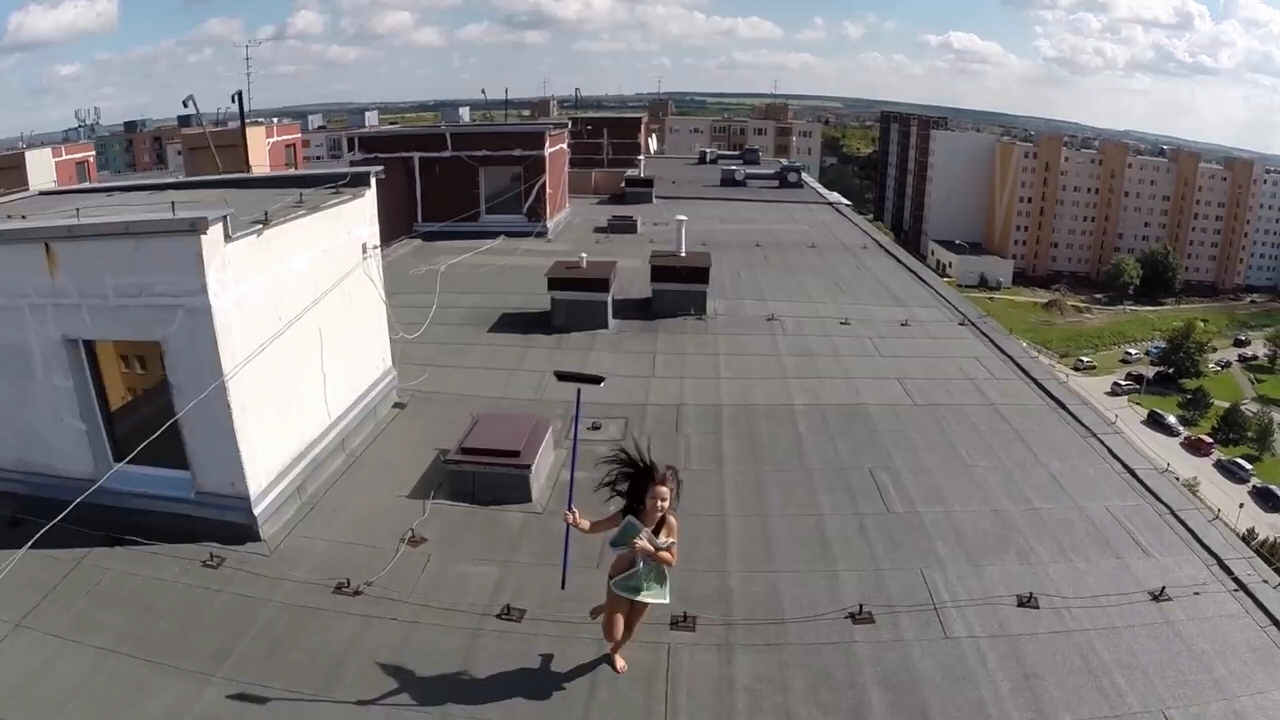araba: (1213, 455, 1261, 485), (1143, 405, 1183, 439), (1106, 377, 1143, 402), (1120, 341, 1146, 367), (1186, 432, 1214, 456), (1074, 354, 1103, 372), (1231, 329, 1254, 348), (1237, 349, 1259, 365)
insan: (563, 454, 688, 677)
